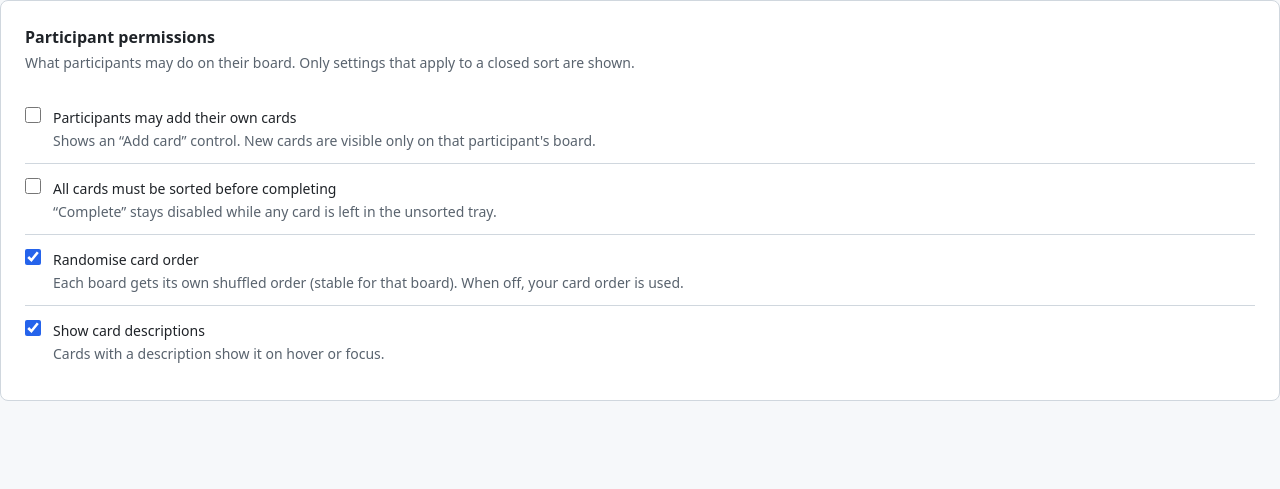
SettingsSection › PERM-01 PERM-02: toggling a setting saves the whole settings object and reveals dependent settings
This screenshot has width=1280, height=489.
Expected: the field labelled "Participants may edit or delete cards they created" is not shown
Click the checkbox labelled "Participants may add their own cards" at (33, 115), box [25,107,41,123]
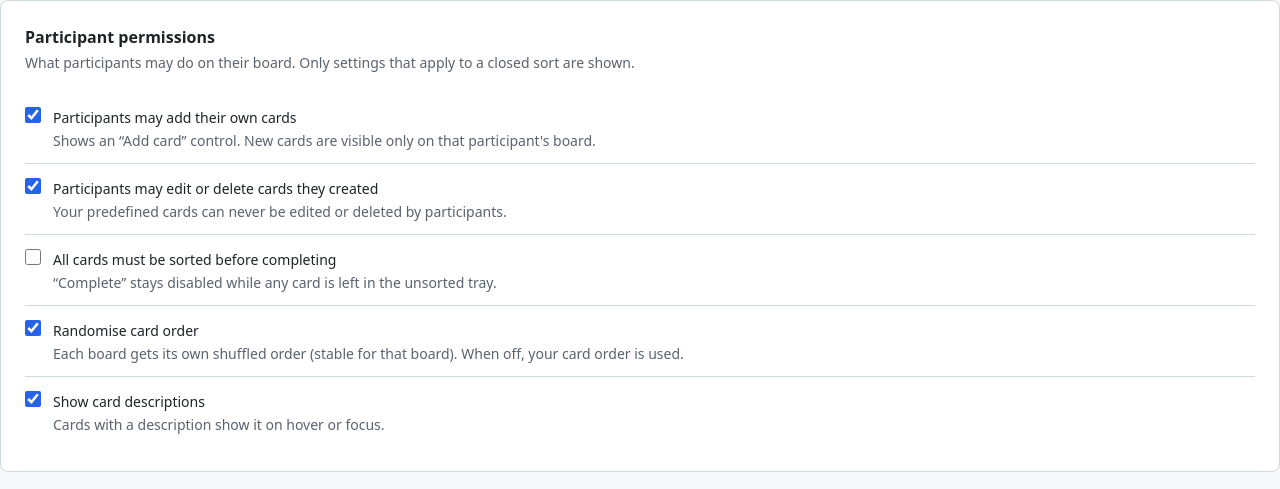
Result: the checkbox labelled "Participants may edit or delete cards they created" is shown at [25,178,41,194]
